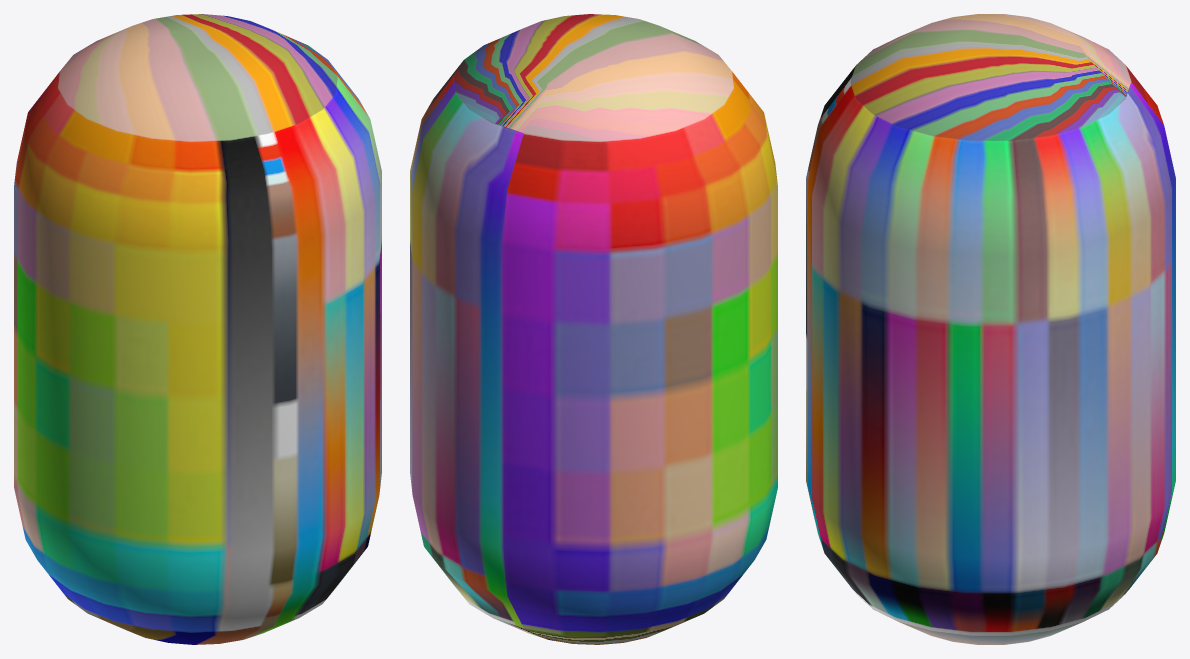
File: Plinko.fbx
The picture shows the model from 3 angles, left to right: view 1: azimuth 30°, elevation 25°; view 2: azimuth 150°, elevation 25°; view 3: azimuth 270°, elevation 25°; orthographic projection.
Visible parts, largest first — view 1: Cylinder.008; view 2: Cylinder.008; view 3: Cylinder.008.
Boxes of the visible parts, bbox=[...] form: Cylinder.008: bbox=[14, 14, 381, 644]; Cylinder.008: bbox=[410, 14, 777, 644]; Cylinder.008: bbox=[806, 14, 1175, 644].
Size of the model in its own units: 0.4224 by 0.7327 by 0.4267.
